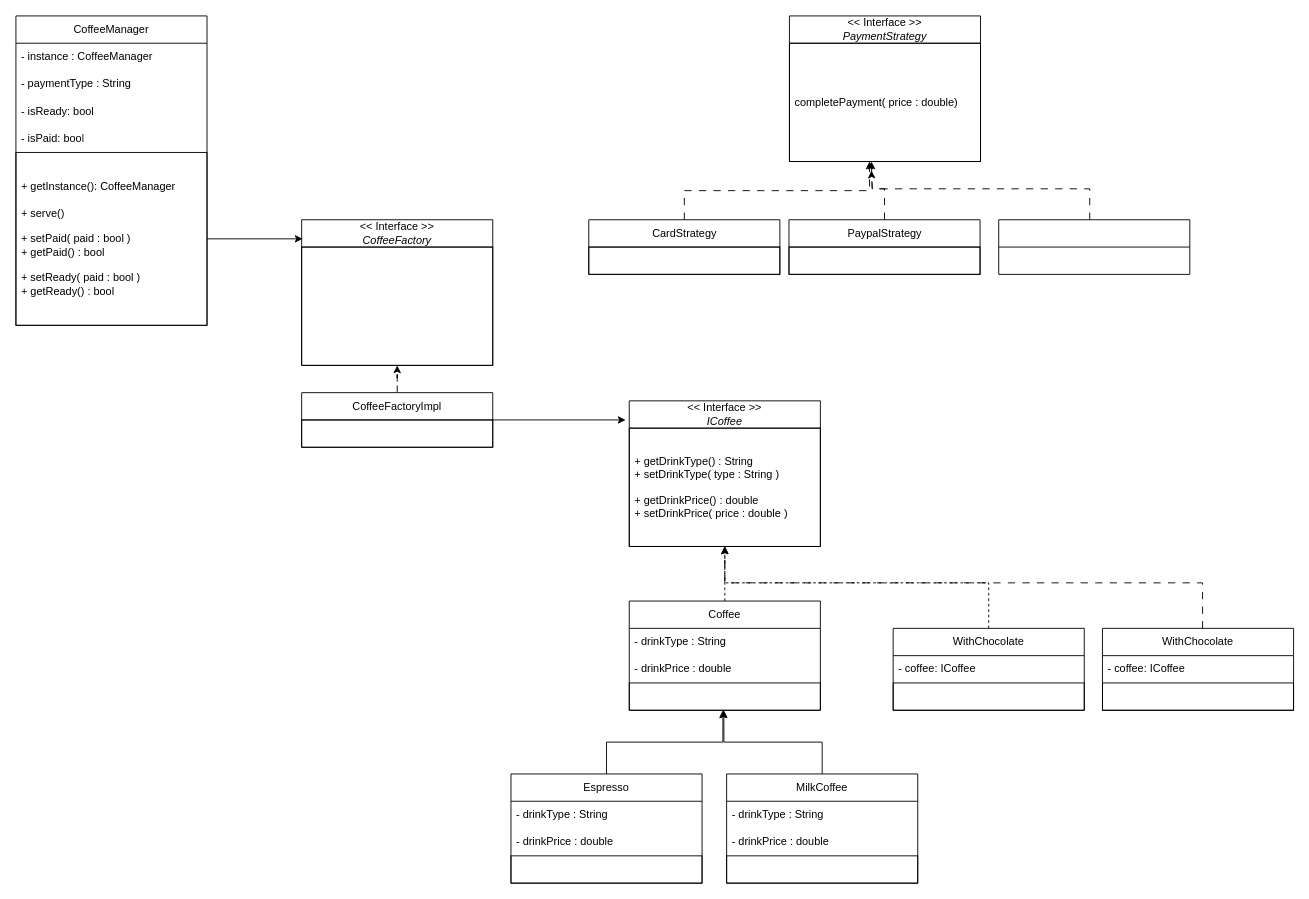
The diagram is 1309 pixels wide and 899 high, and some of its shapes have lost their labels. The shapes that lost their labels are listed below. From the top down, each one's centre as x and y in pixels, then its label:
the point at 1094,246: InvoiceStrategy
the point at 397,305: Icoffee createCoffee( type : String) : ICoffee
